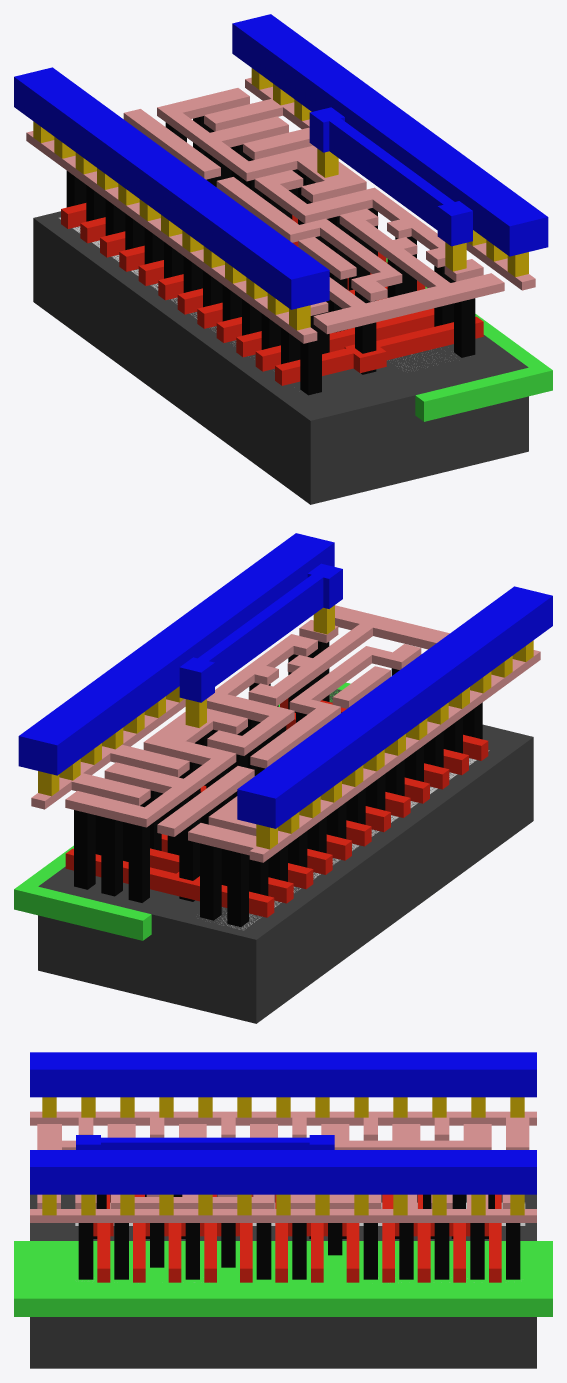
The model's file is sky130_fd_sc_hd__nor3_4.obj.
The picture shows the model from 3 angles, top to bottom: view 1: azimuth 30°, elevation 25°; view 2: azimuth 150°, elevation 25°; view 3: azimuth 270°, elevation 25°; orthographic projection. The views are drawn at different scales.
Parts seen in each view (by area): view 1: subs, metal1, li, licon, poly, mcon, nwell; view 2: subs, metal1, li, licon, poly, mcon, nwell; view 3: metal1, nwell, subs, li, licon, poly, mcon.
Part boxes in pixels (x1=…): subs: x1=33, y1=211, x2=528, y2=504; metal1: x1=14, y1=14, x2=548, y2=309; li: x1=26, y1=77, x2=535, y2=343; licon: x1=66, y1=116, x2=475, y2=395; poly: x1=61, y1=203, x2=483, y2=385; mcon: x1=33, y1=68, x2=528, y2=330; nwell: x1=386, y1=258, x2=552, y2=421; subs: x1=38, y1=689, x2=533, y2=1023; metal1: x1=18, y1=533, x2=552, y2=828; li: x1=31, y1=605, x2=540, y2=862; licon: x1=74, y1=641, x2=482, y2=927; poly: x1=65, y1=698, x2=488, y2=917; mcon: x1=38, y1=605, x2=533, y2=849; nwell: x1=14, y1=682, x2=350, y2=940; metal1: x1=30, y1=1052, x2=536, y2=1194; nwell: x1=14, y1=1241, x2=552, y2=1316; subs: x1=30, y1=1194, x2=536, y2=1368; li: x1=30, y1=1111, x2=536, y2=1222; licon: x1=78, y1=1194, x2=520, y2=1279; poly: x1=93, y1=1194, x2=501, y2=1282; mcon: x1=42, y1=1097, x2=524, y2=1215.
Bounding box in the file's own units: 3.2 × 2.74 × 6.36.
